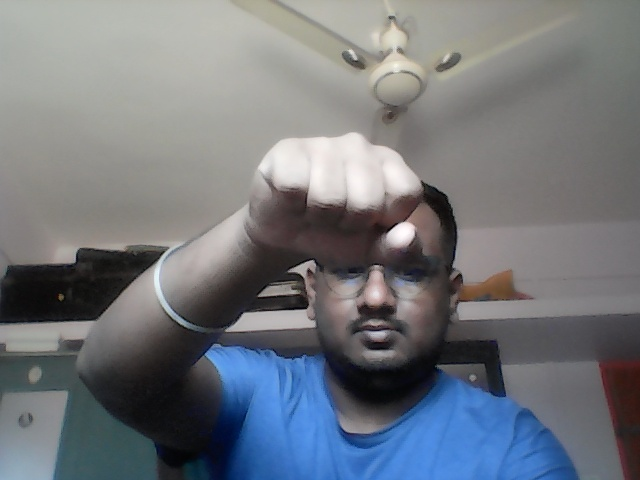Yes: (246, 129, 430, 280)
